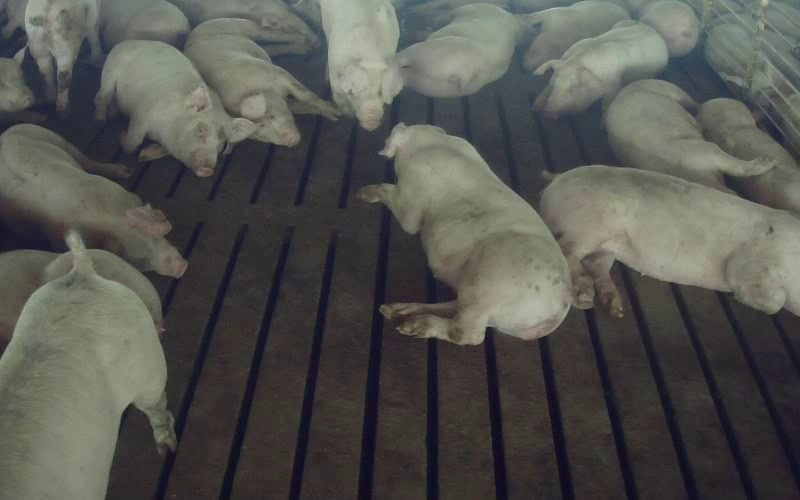pig: (0, 232, 175, 499), (359, 124, 571, 344), (541, 165, 799, 315), (185, 18, 337, 146), (605, 79, 773, 191), (534, 20, 667, 117), (396, 3, 527, 96), (696, 98, 799, 213), (320, 0, 402, 129), (523, 0, 629, 70)
